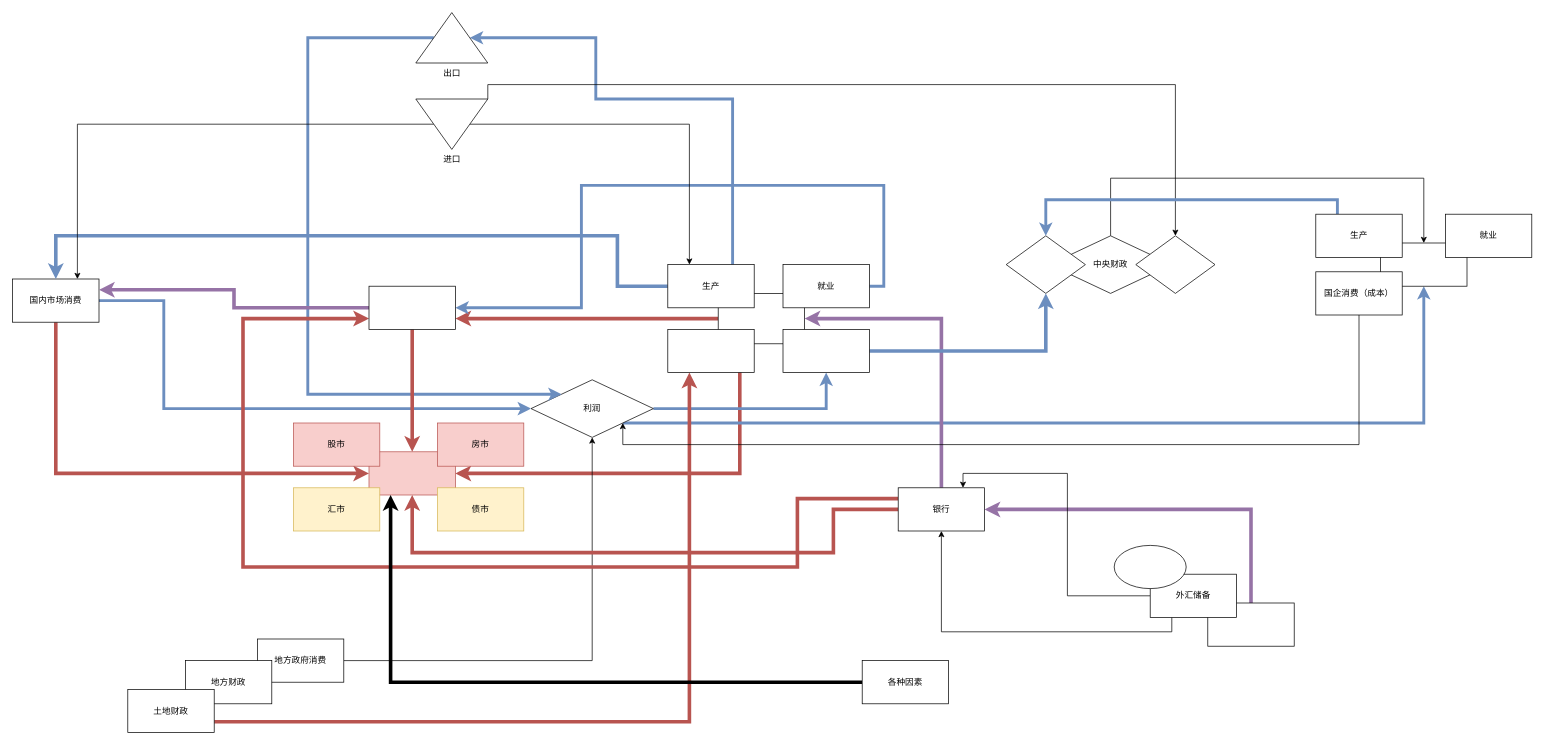
This 1544x745 diagram has some shape labels left out. Each missing label, with the box of its shape:
关税: (1135, 235, 1215, 293)
国企: (1380, 242, 1467, 286)
国内税收: (1005, 235, 1085, 293)
央行: (1207, 602, 1294, 646)
投机市场: (368, 451, 455, 495)
投资: (717, 293, 805, 344)
民企消费(成本): (667, 329, 754, 373)
汇率: (1113, 545, 1186, 589)
流动货币(流通人民币): (368, 285, 455, 329)
资本: (782, 329, 869, 373)
